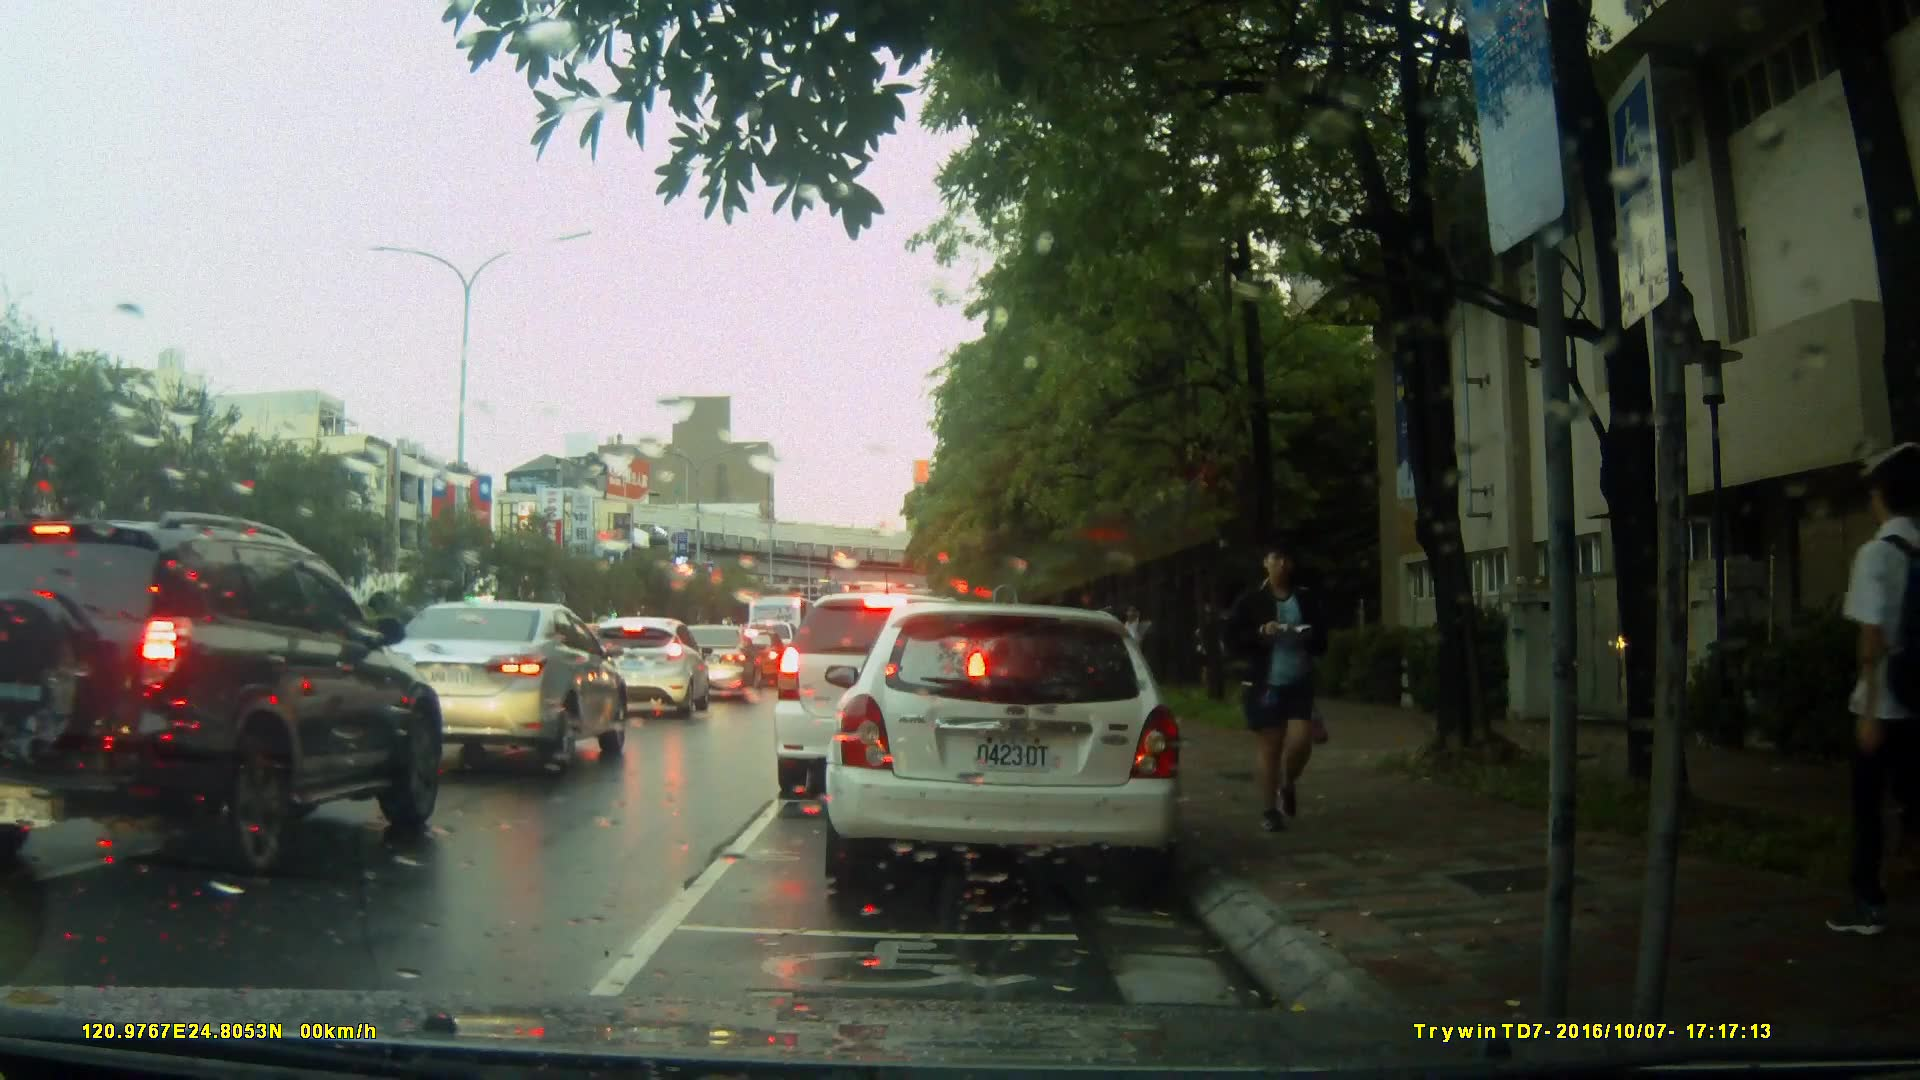pedestrian: (1217, 544, 1360, 841), (1832, 453, 1916, 950), (1114, 588, 1156, 730)
vehicle: (7, 510, 448, 887), (815, 593, 1198, 893), (770, 590, 995, 802), (370, 601, 632, 774), (580, 614, 713, 720), (674, 624, 758, 697)
